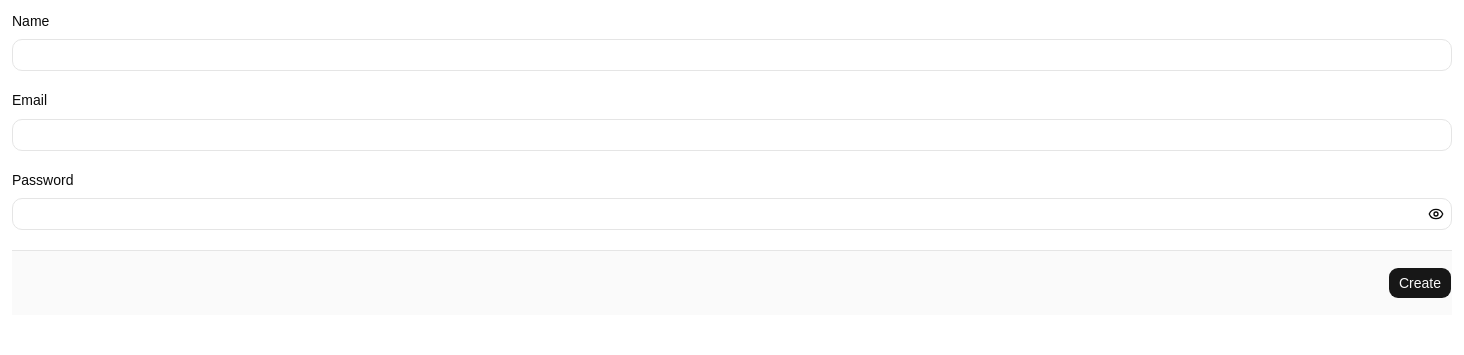
Scenario: CreateUserForm — after it calls the API › shows a generic message when the request fails for another reason
The width and height of the screenshot is (1464, 355).
Type "New Hire" into the field labelled "Name" at [732, 55], box [12,39,1452,71]
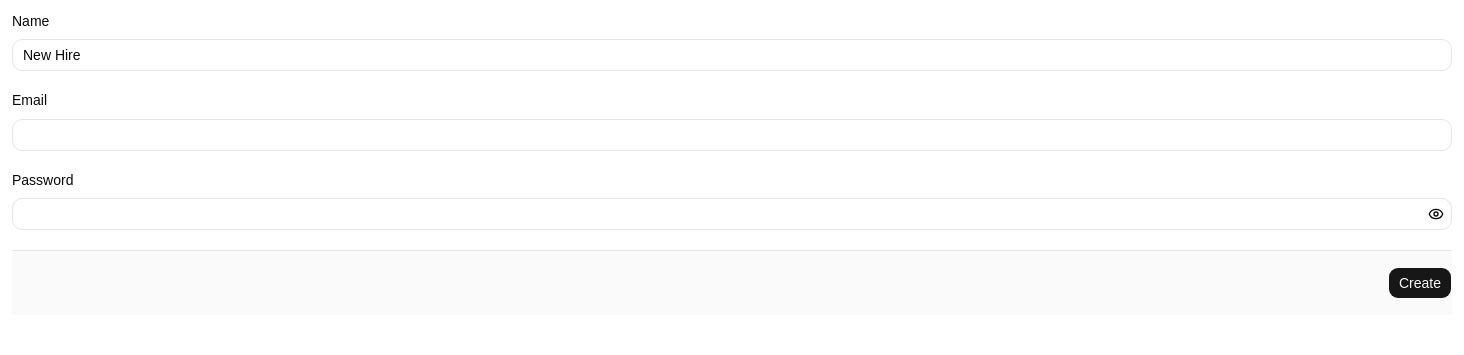
Type "New.Hire@Test.LOCAL" into the field labelled "Email" at [732, 134], box [12,118,1452,150]
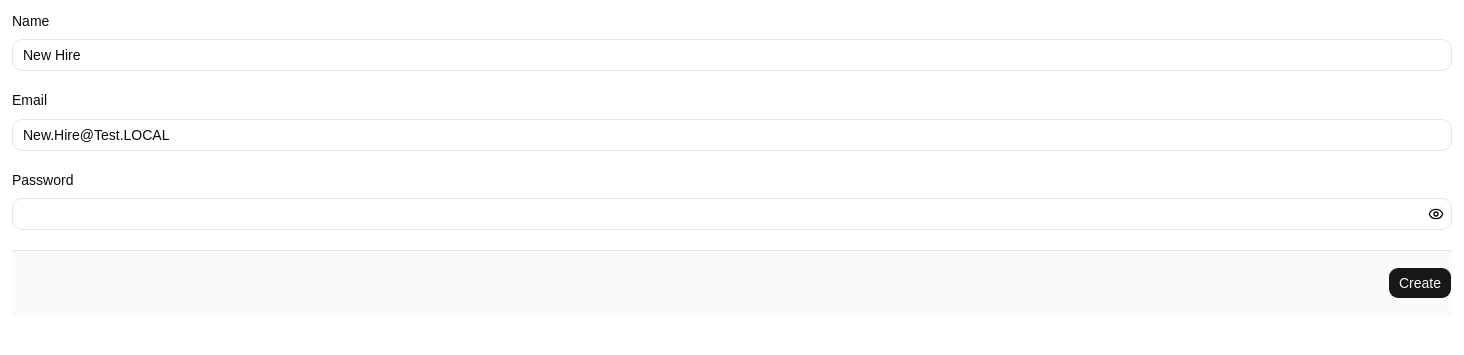
Type "password1234" into the password field labelled "Password" at [732, 214], box [12,198,1452,230]
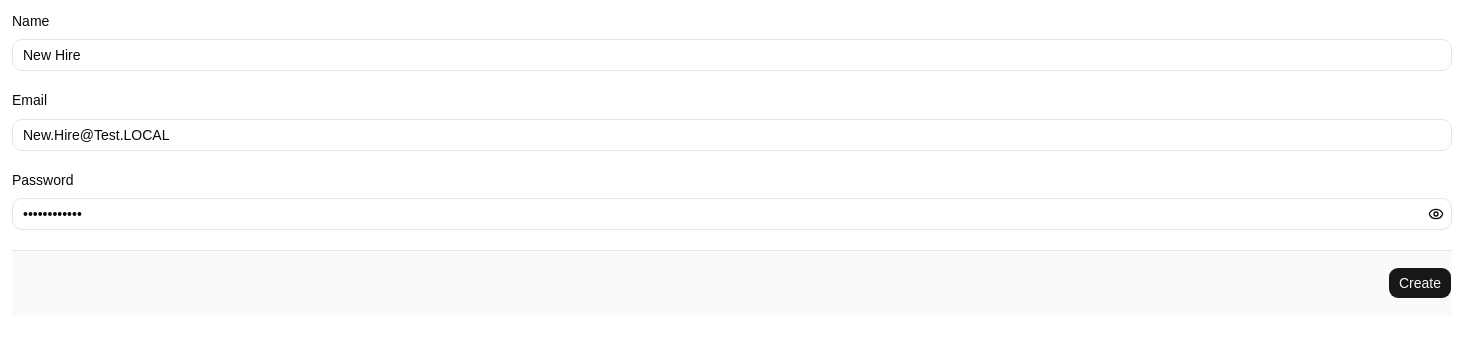
Click the button "Create" at [1420, 283], box [1388,267,1452,299]
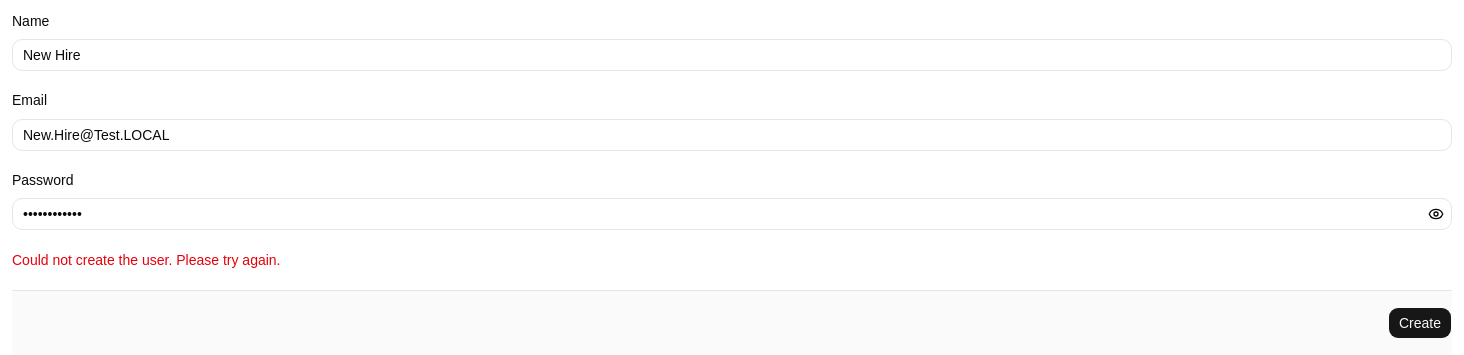
Check: the text "Could not create the user. Please try again." is shown, box [12,252,280,268]
